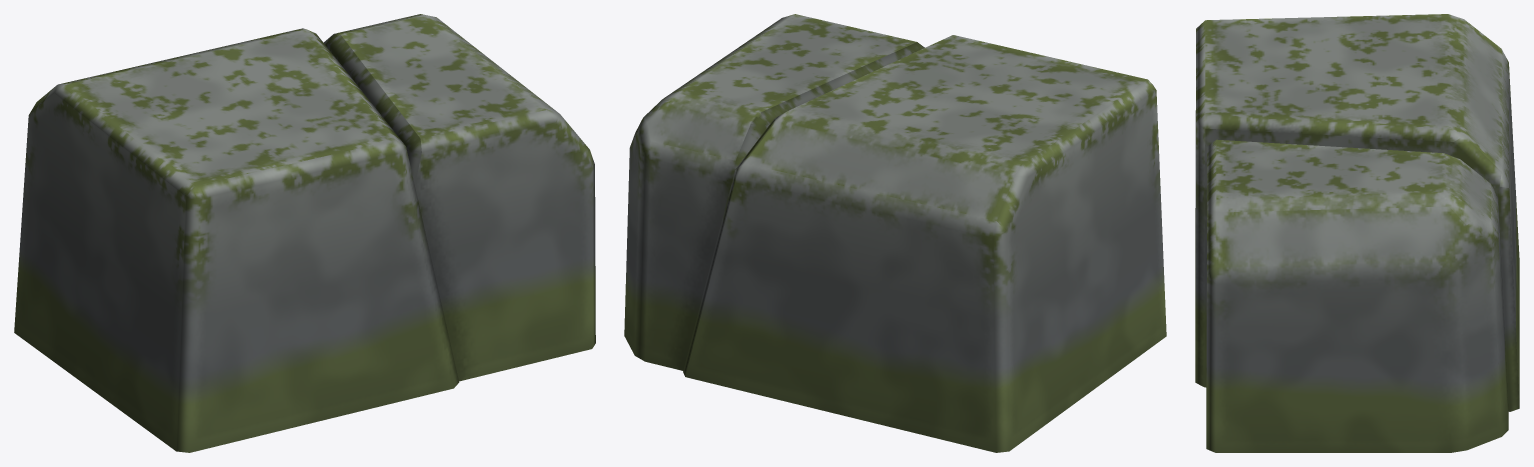
File: block_2_mossy.glb
The picture shows the model from 3 angles, left to right: view 1: azimuth 30°, elevation 25°; view 2: azimuth 150°, elevation 25°; view 3: azimuth 270°, elevation 25°; orthographic projection. The views are drawn at different scales.
Visible parts, largest first — view 1: block_2_mossy; view 2: block_2_mossy; view 3: block_2_mossy.
Part boxes in pixels (x1,y1,x2,y2): block_2_mossy: (14, 14, 595, 452); block_2_mossy: (624, 14, 1166, 452); block_2_mossy: (1195, 14, 1519, 452).
Bounding box in the file's own units: 1 × 0.6 × 0.7.
Materials: 1 (1 with a texture image).
